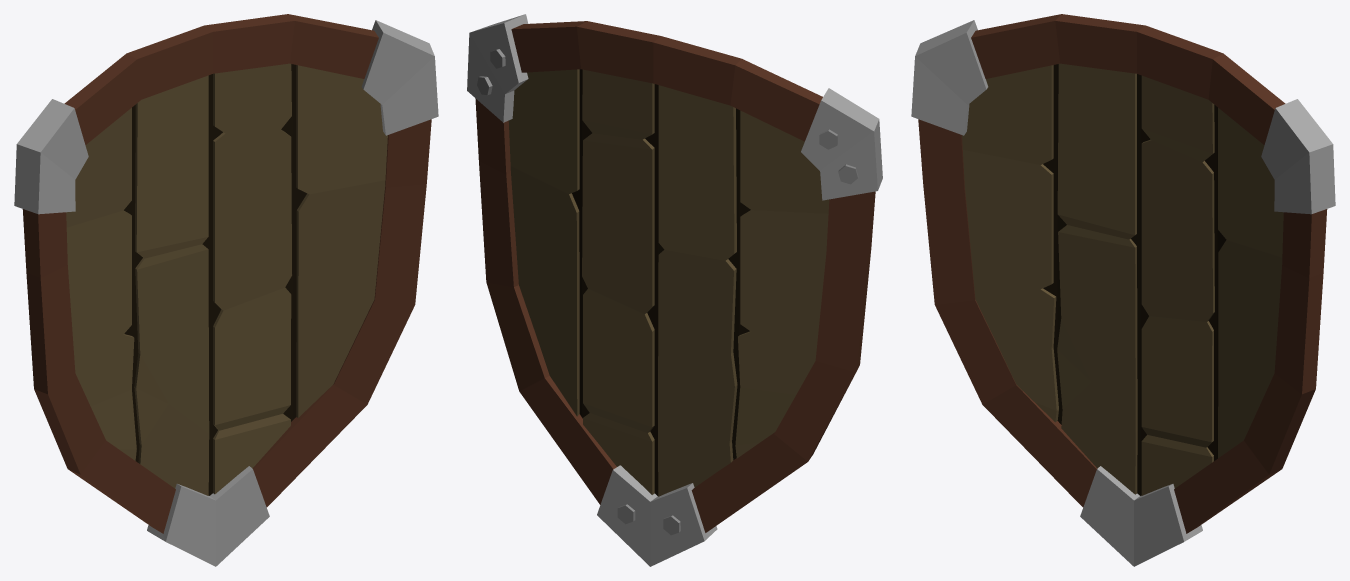
Rendered from Shield.glb.
3 views of the same model, side by side, from view 1: azimuth 30°, elevation 25°; view 2: azimuth 150°, elevation 25°; view 3: azimuth 330°, elevation 25° (orthographic). The views are drawn at different scales.
Visible parts, largest first — view 1: Wood, Bend; view 2: Wood, Bend; view 3: Wood, Bend.
Boxes of the visible parts, left/top/right/bottom form: Wood: left=66, top=63, right=387, bottom=495; Bend: left=14, top=14, right=438, bottom=566; Wood: left=508, top=69, right=829, bottom=496; Bend: left=467, top=14, right=882, bottom=566; Wood: left=962, top=63, right=1283, bottom=495; Bend: left=911, top=14, right=1335, bottom=566.
Size of the model in its own units: 0.8434 by 1.02 by 0.1365.
